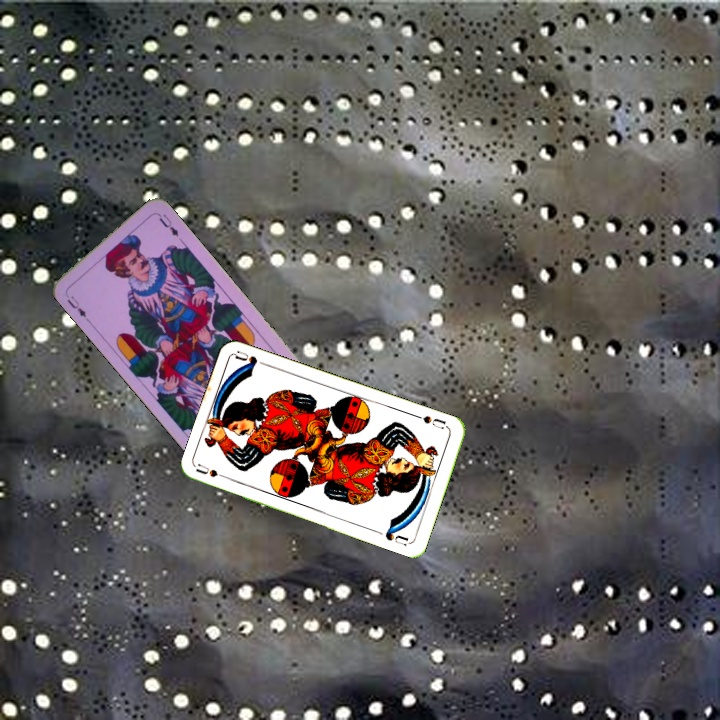EU: (63, 292, 91, 323)
SU: (193, 460, 233, 483), (411, 411, 451, 432)
